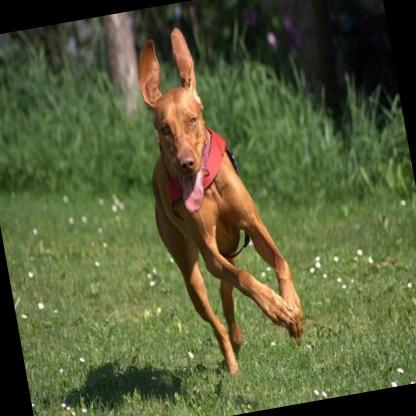vizsla: (118, 8, 310, 384)
